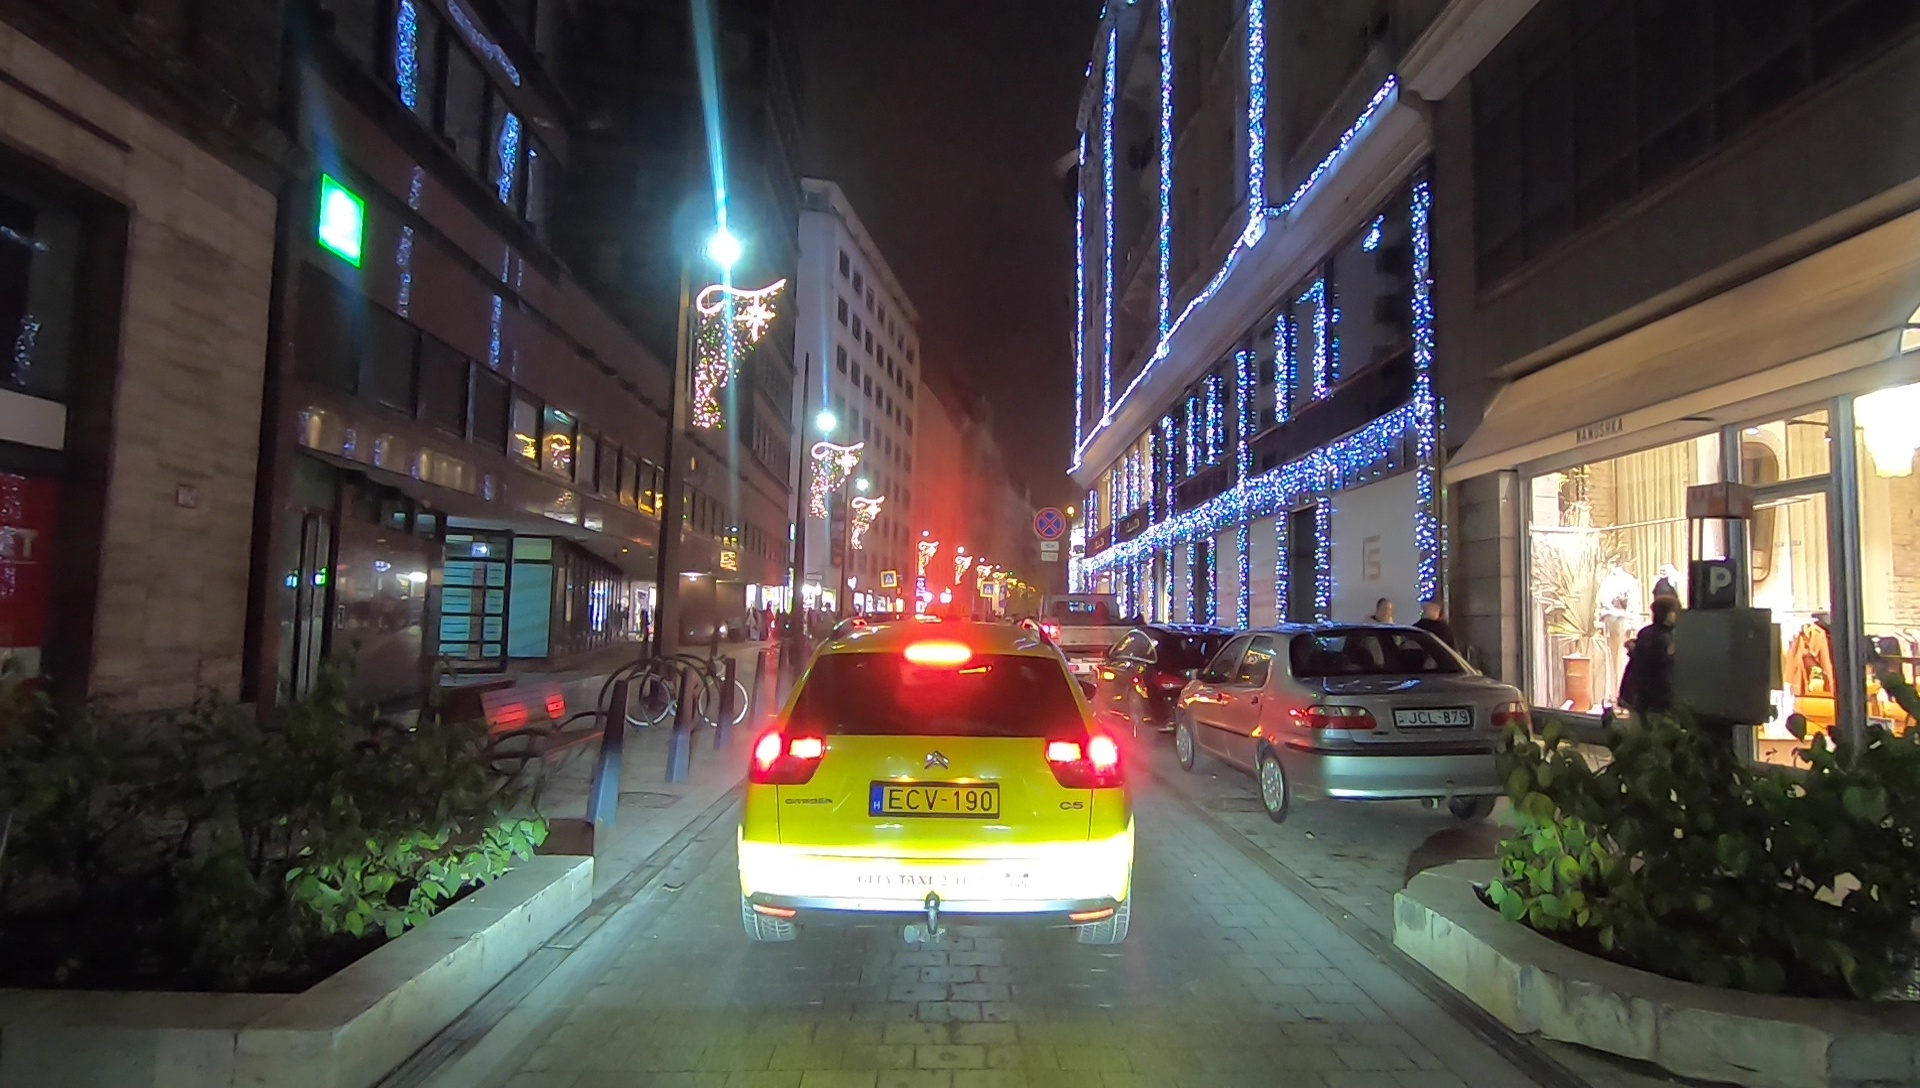person: (1614, 597, 1680, 789)
